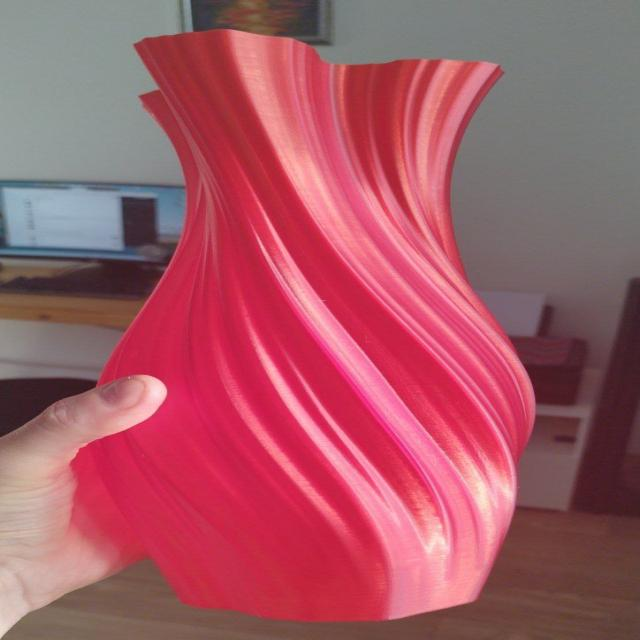Without deffect: (49, 15, 546, 640)
